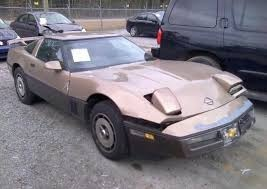Dent: (77, 60, 161, 83)
